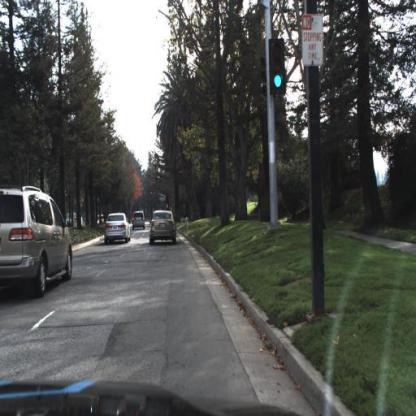car: (1, 181, 76, 303), (146, 207, 180, 251), (104, 210, 134, 249), (132, 212, 146, 234), (132, 210, 147, 230)
trafficLight: (269, 37, 291, 96)
